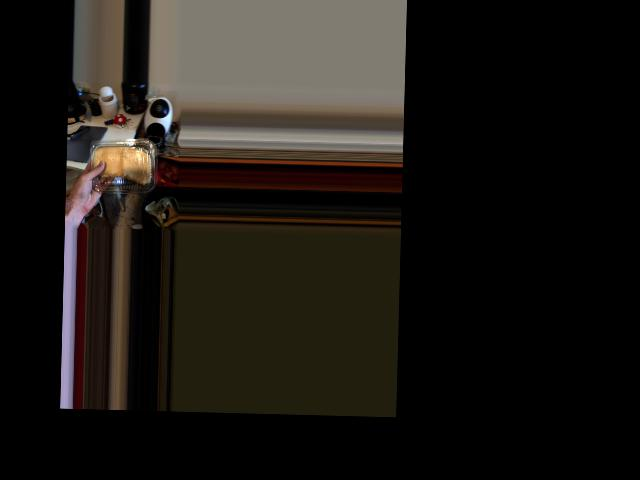cheese: (91, 132, 152, 197)
